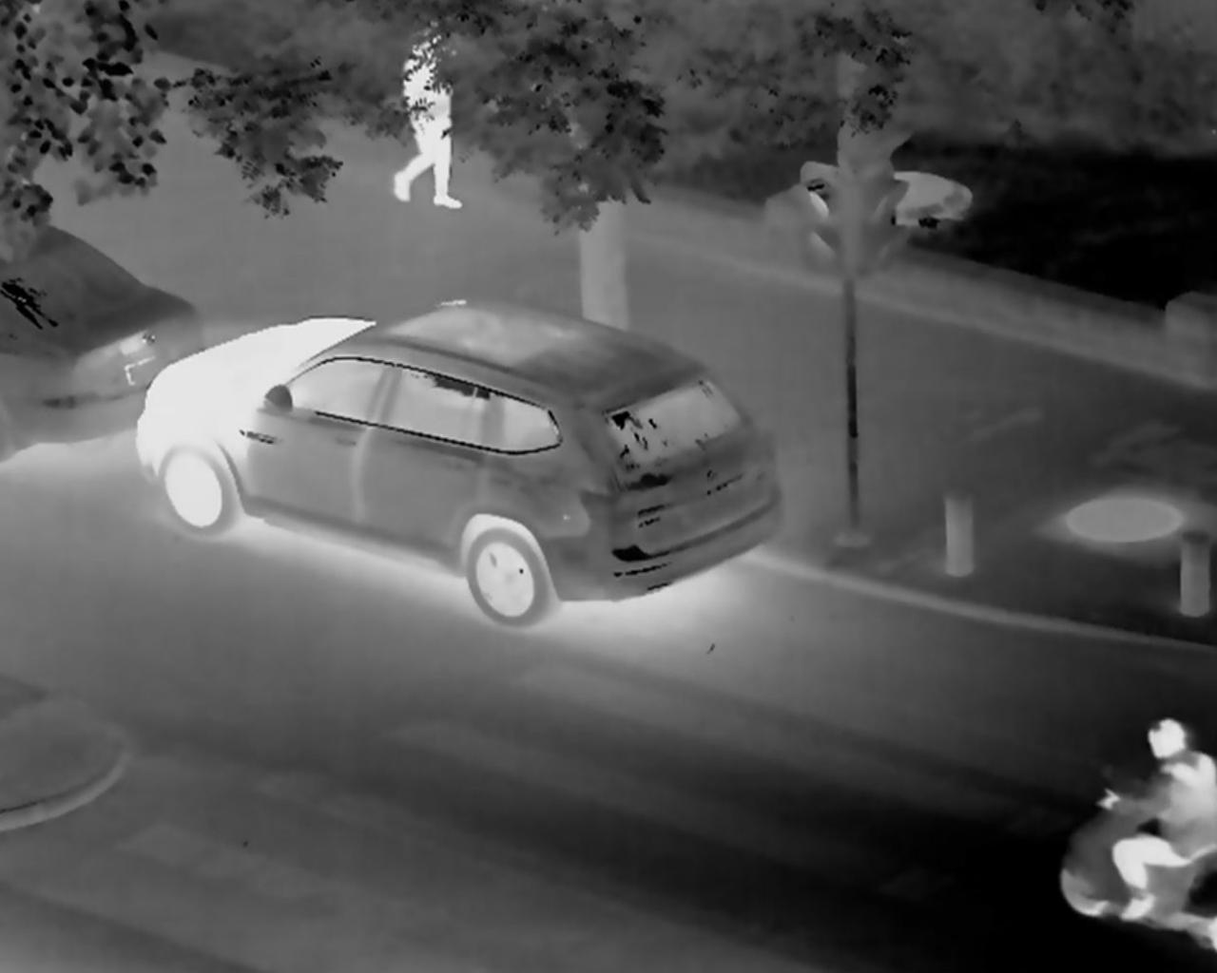person: (383, 8, 497, 221)
